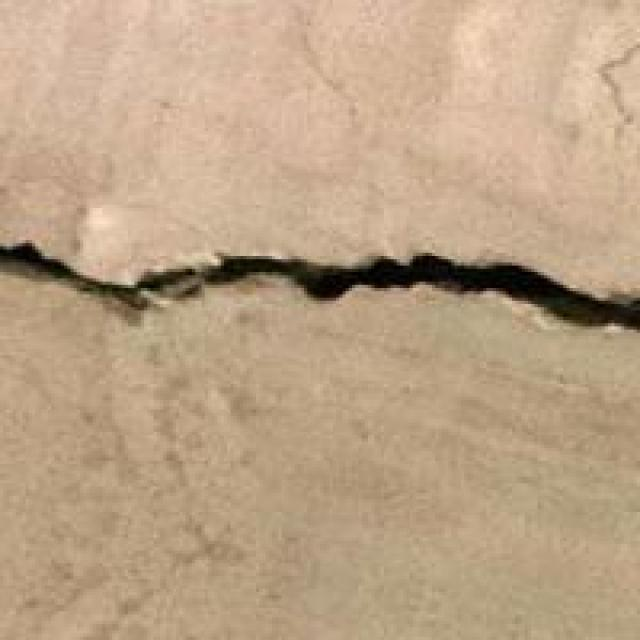crack: (0, 164, 637, 422)
